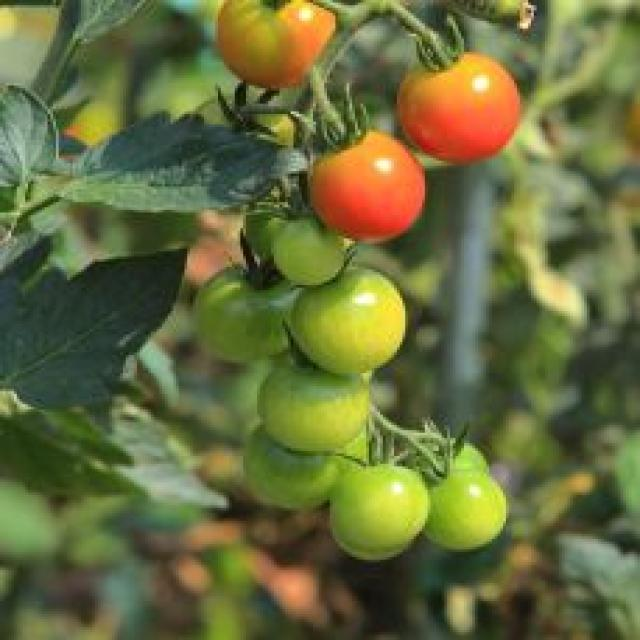level 1: (239, 428, 341, 516), (240, 193, 310, 261)
level 2: (240, 343, 372, 450), (282, 278, 411, 370), (192, 263, 294, 372), (408, 463, 509, 551), (338, 457, 432, 542), (397, 424, 506, 489), (327, 502, 410, 578), (271, 215, 351, 288)
level 4: (200, 0, 358, 95)
level 5: (301, 128, 455, 242), (389, 61, 527, 167)
